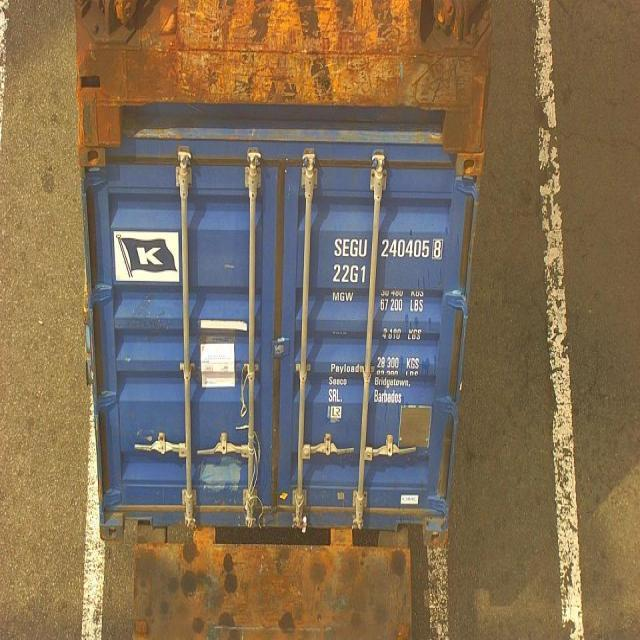ISO: (332, 260, 367, 284)
container_number: (332, 234, 442, 262)
